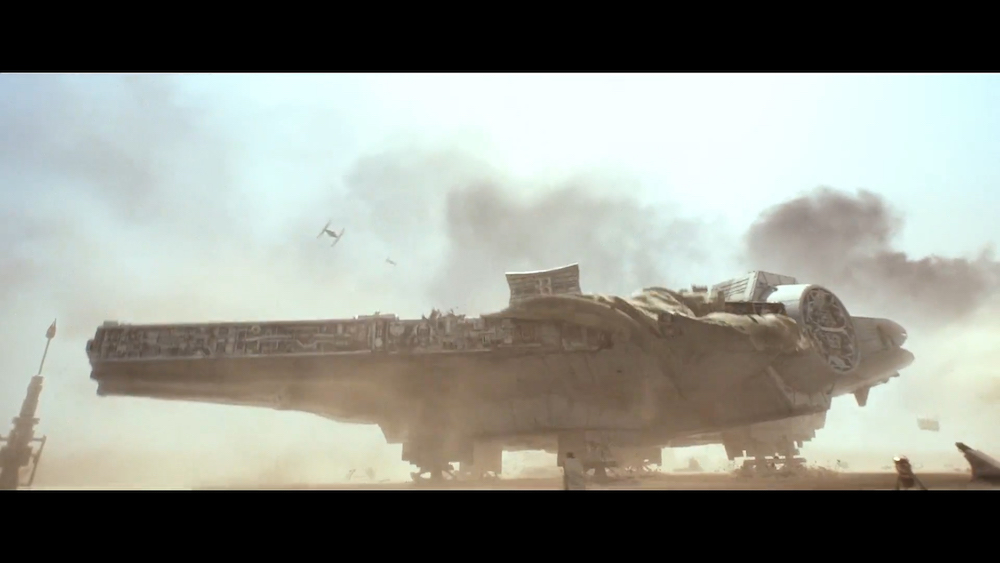Millennium Falcon: (90, 273, 915, 457)
Tie Fighter: (318, 222, 345, 248), (386, 258, 399, 269)
